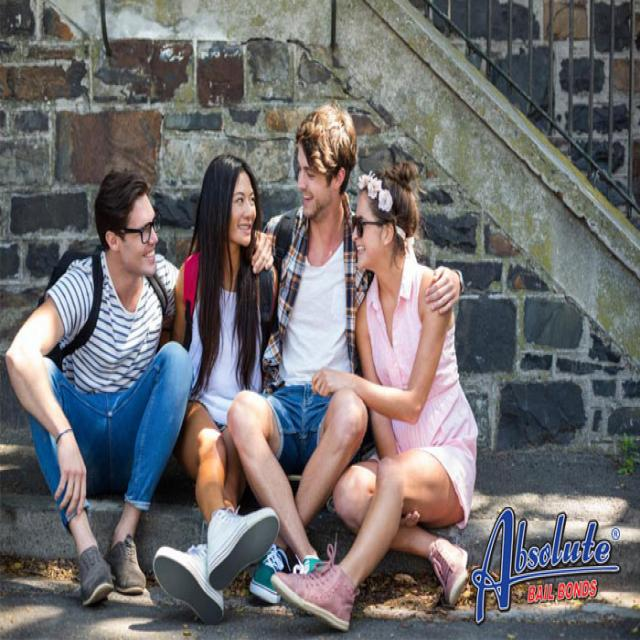human: (287, 159, 529, 640), (284, 148, 502, 623), (1, 158, 194, 601), (159, 115, 294, 627), (254, 90, 374, 625)
loitering: (3, 165, 211, 612), (148, 132, 296, 615), (248, 94, 374, 600)
